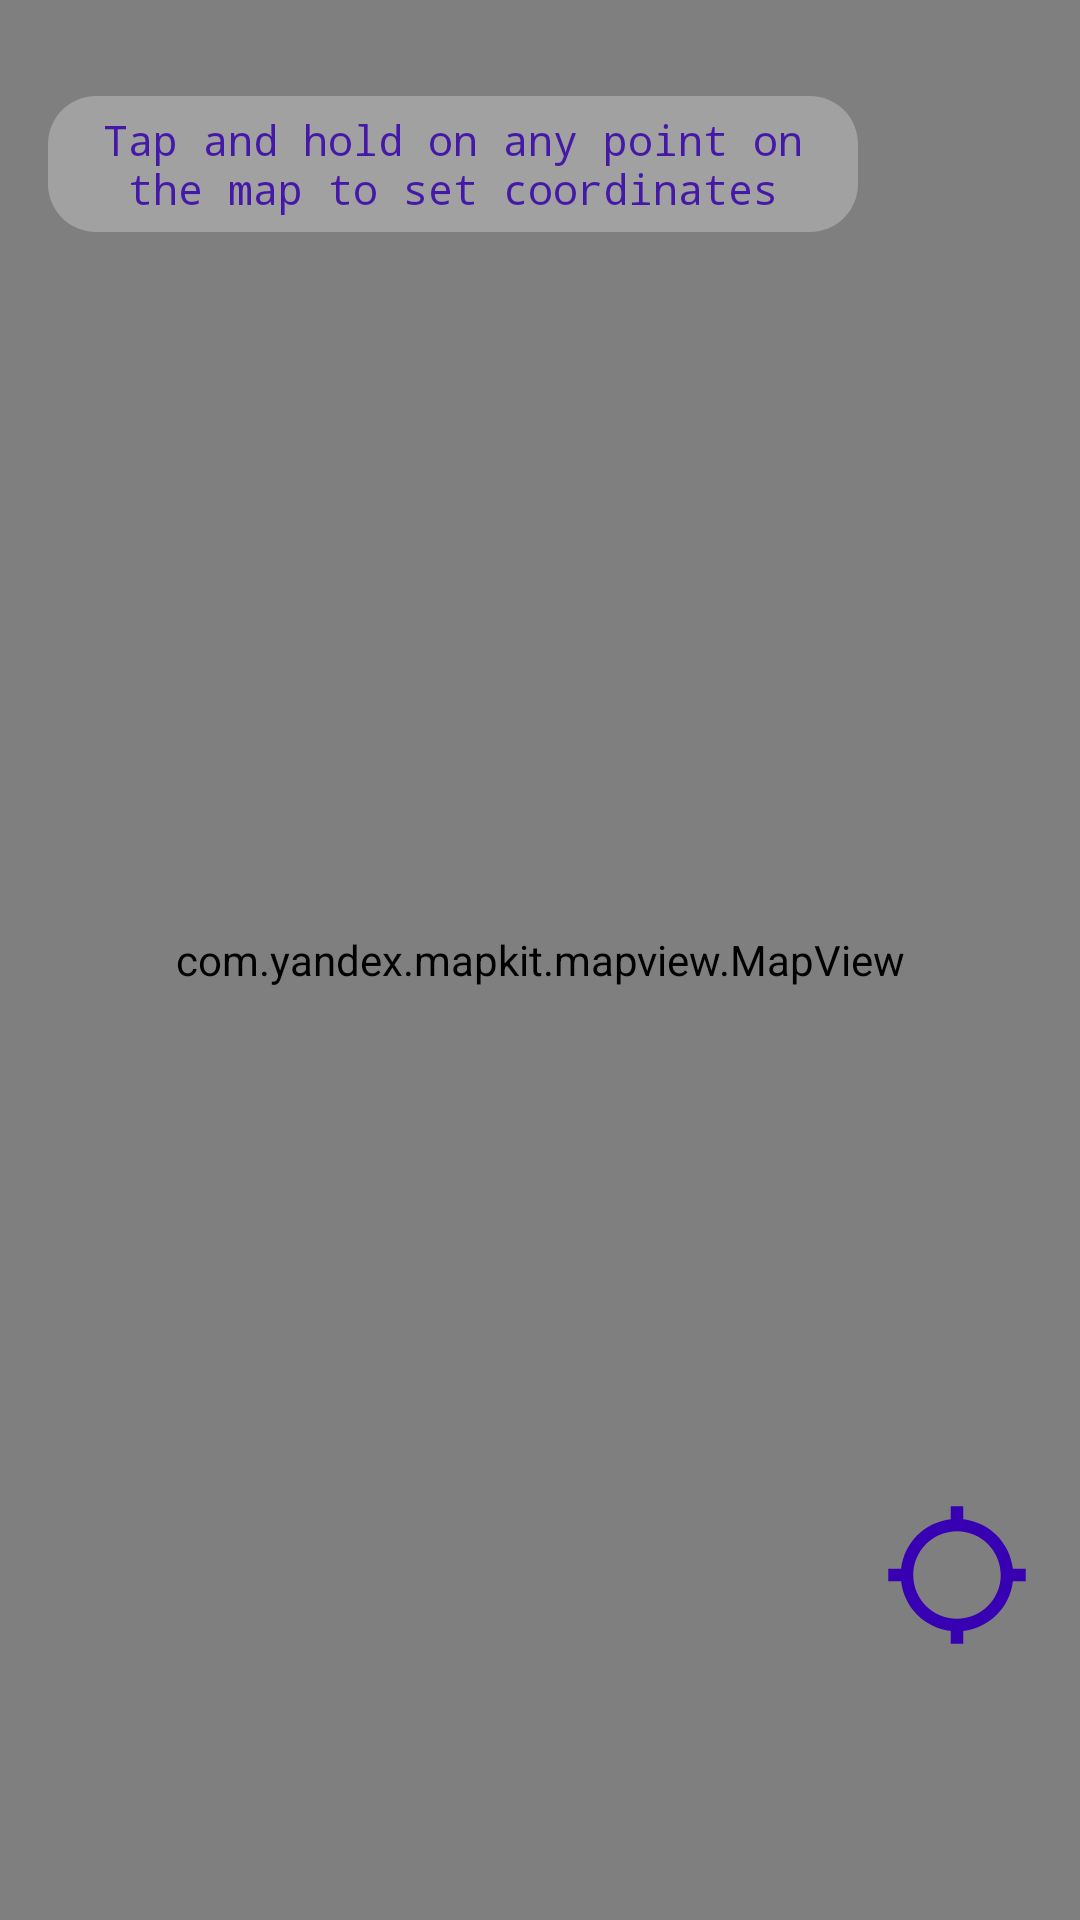

Locate icon controls on the screen. Image size 1080px x 1920px, boxes as region(x1, y1, x2, y2).
location searching: region(888, 1506, 1026, 1644)
